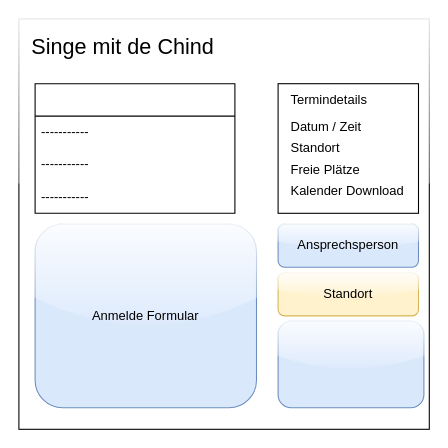
Image size: 448x448. Some labels were removed from this diagram. Each missing label, with the box of its shape:
Eigenständige Inhalte: (34, 83, 235, 213)
Helfer Anmeldung: (277, 320, 424, 408)
